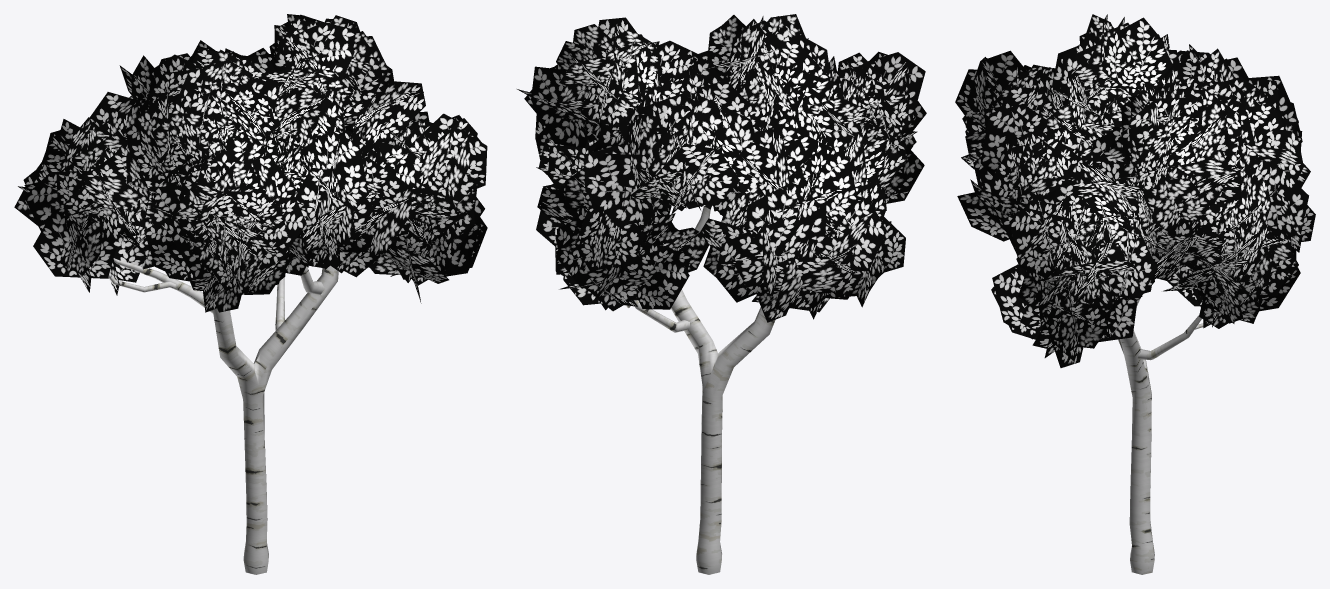
File: P_BirchTreeB2.obj
3 renders of one model, left to right at view 1: azimuth 30°, elevation 25°; view 2: azimuth 150°, elevation 25°; view 3: azimuth 270°, elevation 25°, orthographic. The views are drawn at different scales.
Bounding box in the file's own units: 16.72 × 21.39 × 13.26.
